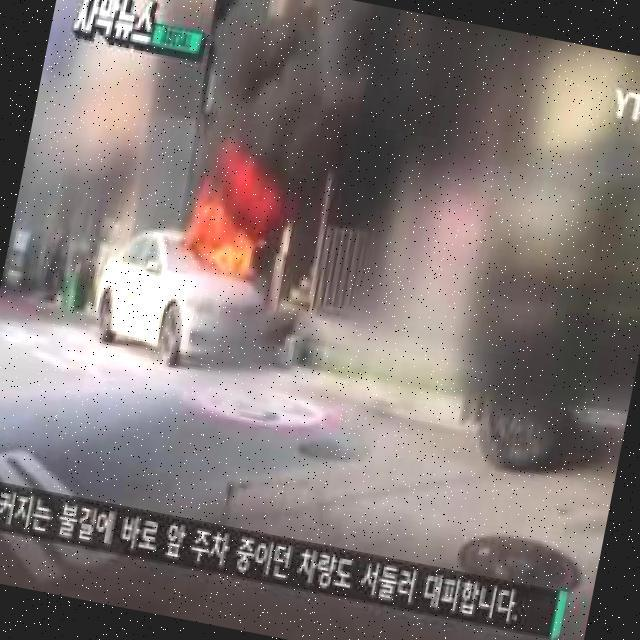Fire: (179, 161, 282, 282)
